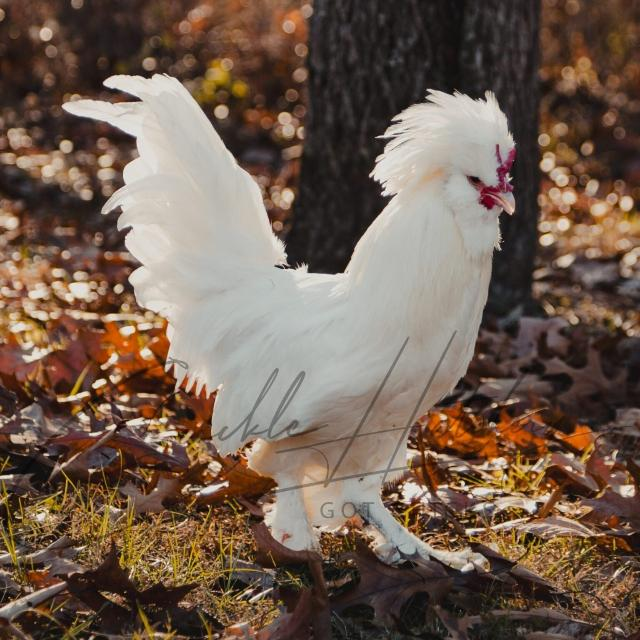Chicken: (61, 70, 517, 570)
